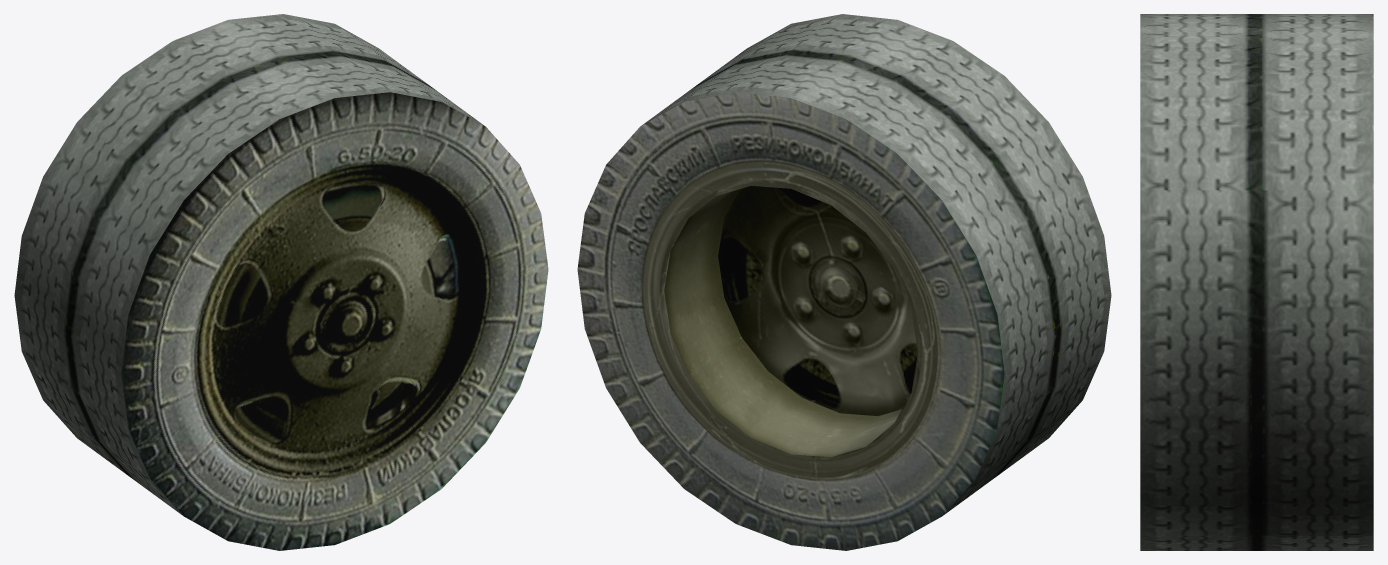
Rendered from wheelBack.DAE.
3 renders of one model, left to right at view 1: azimuth 30°, elevation 25°; view 2: azimuth 150°, elevation 25°; view 3: azimuth 270°, elevation 25°, orthographic. The views are drawn at different scales.
Visible parts, largest first — view 1: wheelB; view 2: wheelB; view 3: wheelB.
Part boxes in pixels (x1,y1,x2,y2): wheelB: (14,14,548,550); wheelB: (577,14,1111,550); wheelB: (1140,14,1373,550).
Size of the model in its own units: 808 by 350 by 808.
